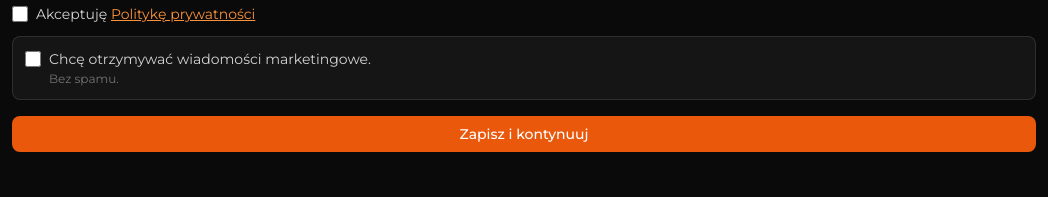
Test: ProfileCompletionForm › should block submit when the mandatory privacy consent is unchecked
Click the button "Zapisz i kontynuuj" at x=524, y=134, box x1=12 y1=116 x2=1036 y2=152
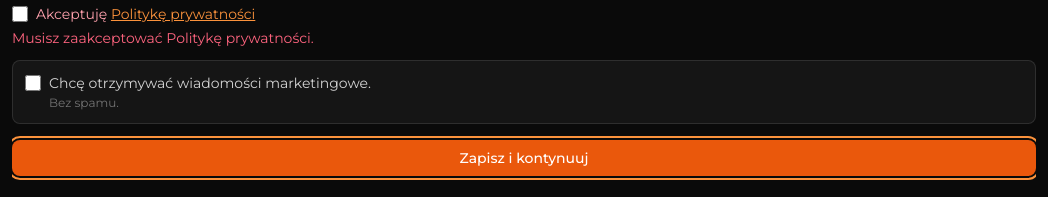
Now the text "Musisz zaakceptować Politykę prywatności." is shown, box x1=12 y1=29 x2=314 y2=47
